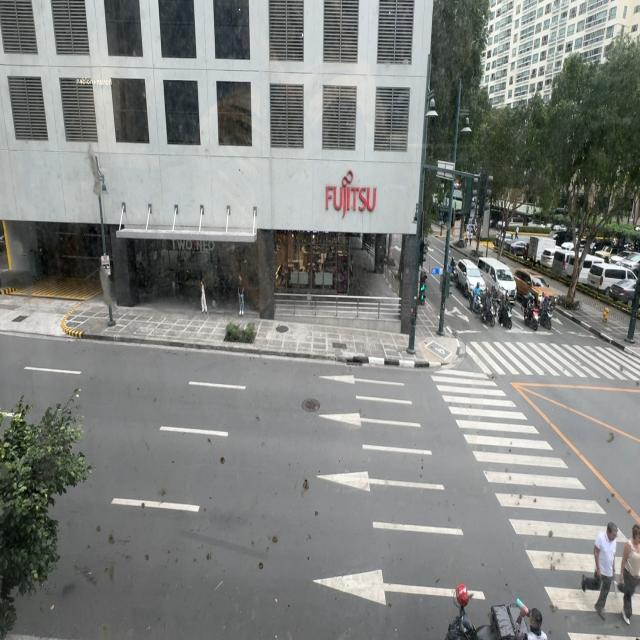crossing: (589, 522, 617, 618), (622, 514, 640, 638)
pedestrain: (238, 276, 245, 316), (200, 279, 207, 314)
